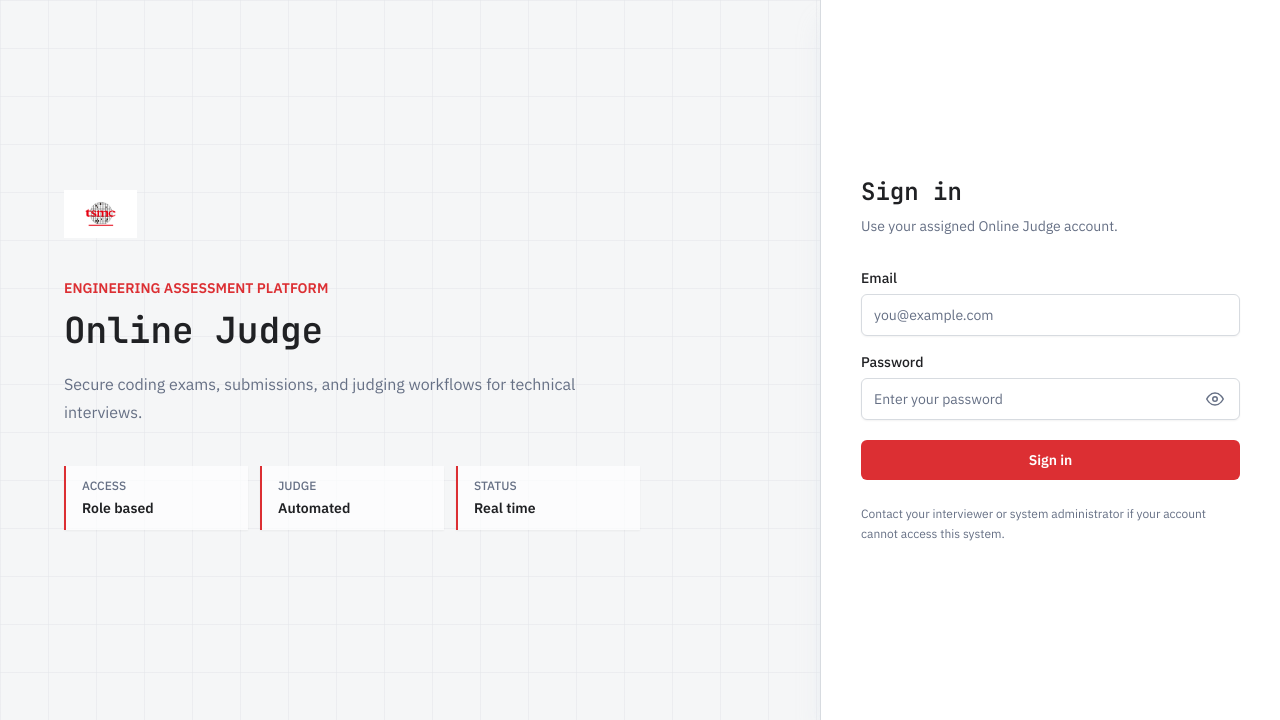
it: Login page › shows error message on bad credentials
The width and height of the screenshot is (1280, 720).
In the field labelled "Email": point(1050, 315) [861,294,1240,336], type "bad@example.com"
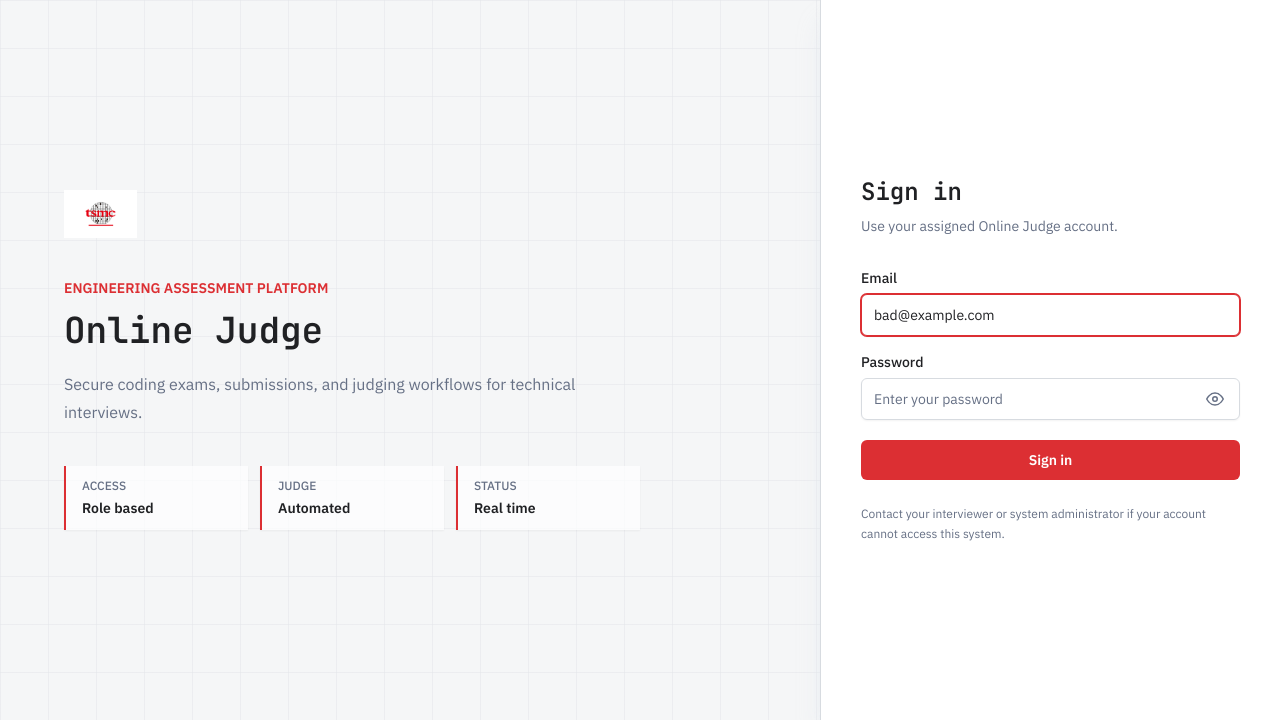
In the password field labelled "Password": point(1050, 399) [861,378,1240,420], type "wrongpassword"
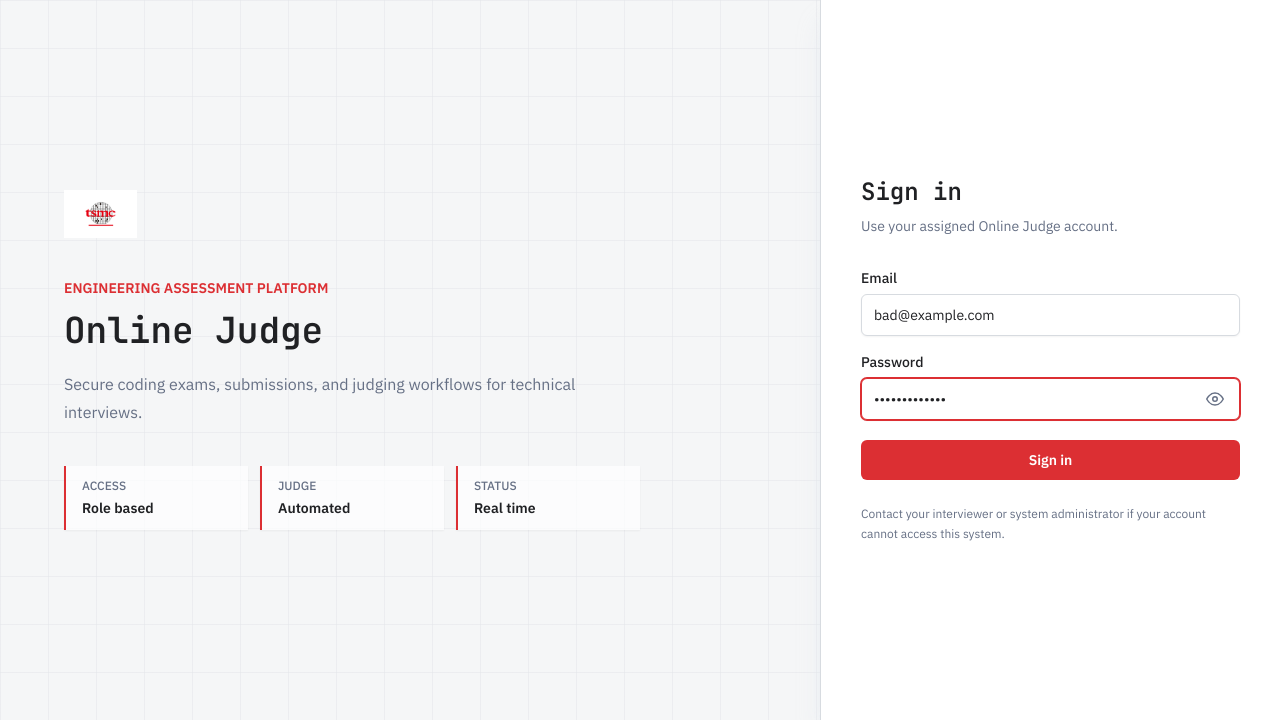
Click the button "Sign in": point(1050, 460) [861,440,1240,480]
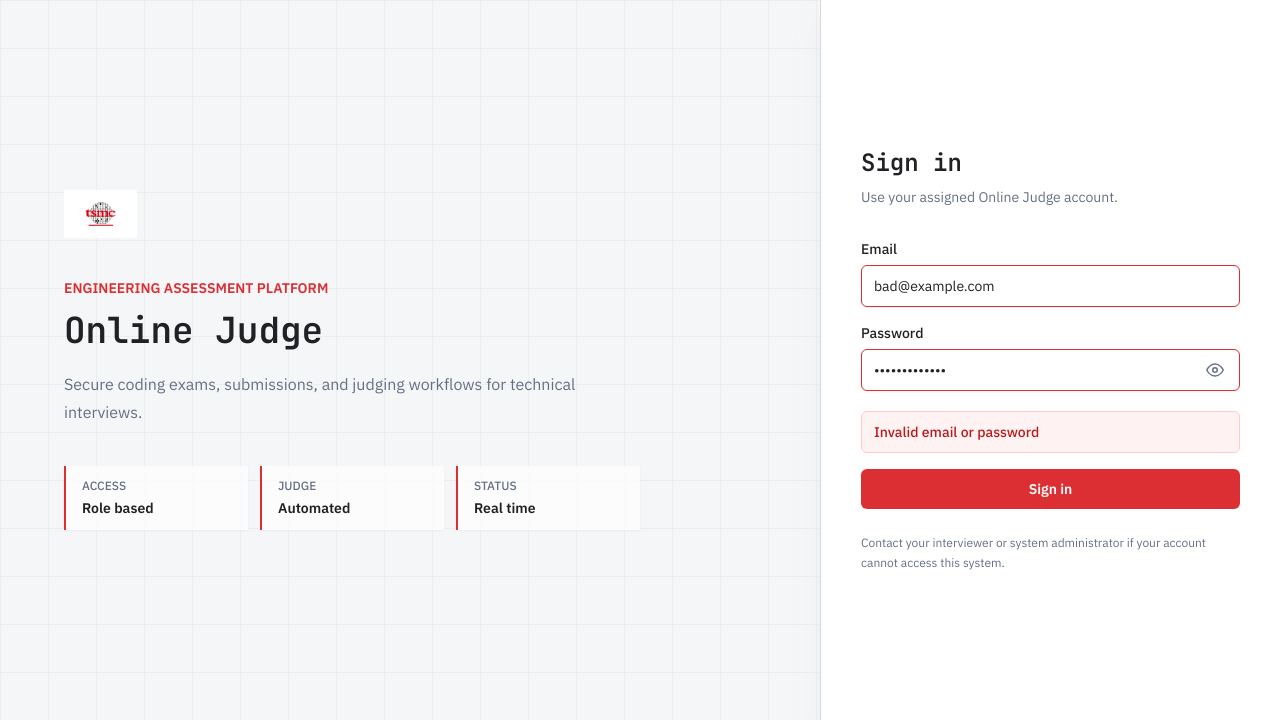
Expected: the message reads "Invalid email or password", [874,423,1039,441]
